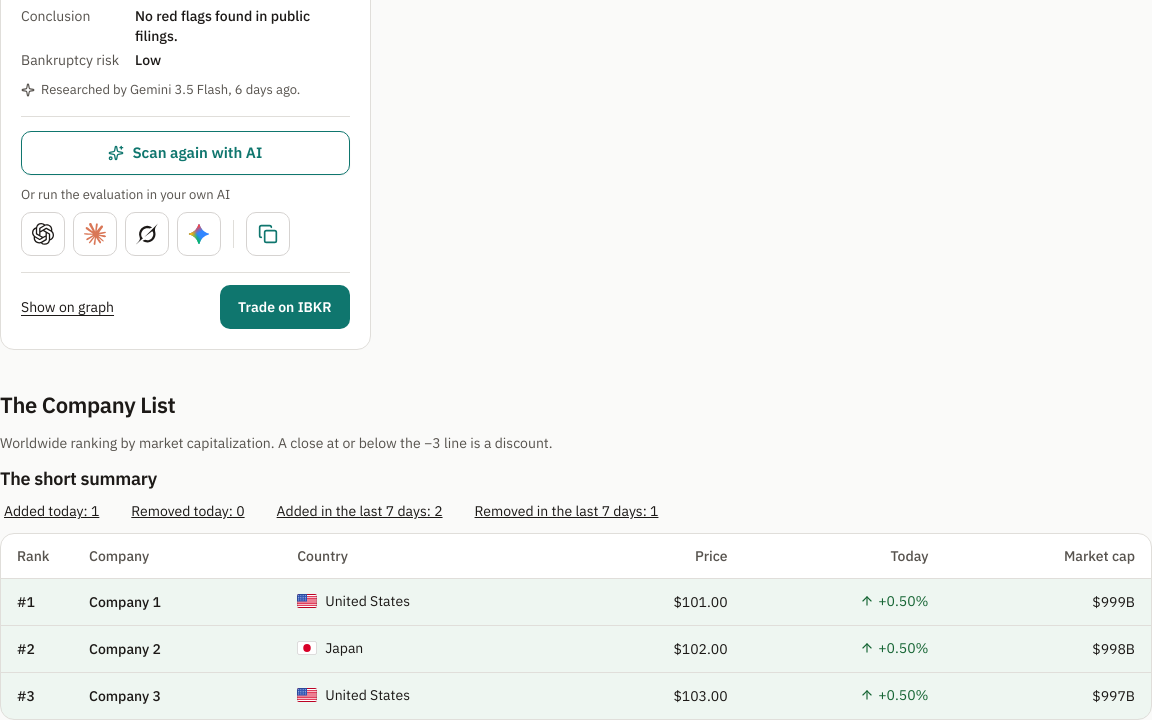
OverviewPage › the short summary shows the four counts and opens each company list in a popover
This screenshot has width=1152, height=720.
(page scrolled)
Check: the button "Added today: 1" is shown, box [0,501,103,521]
Check: the button "Removed today: 0" is shown, box [127,501,249,521]
Click the button "Removed in the last 7 days: 1". click: [566, 511]
box: [470,501,662,521]
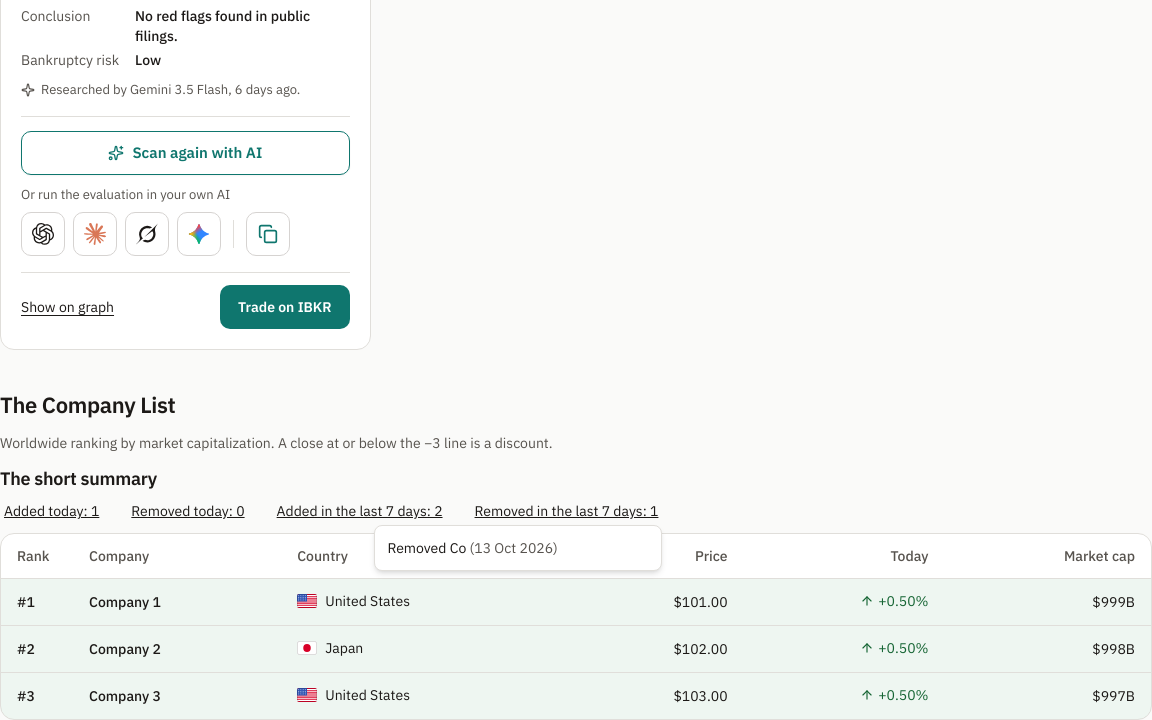
Check: the dialog named "Removed in the last 7 days" shows "Removed Co", box [387,539,466,557]
Check: the dialog named "Removed in the last 7 days" shows "13 Oct 2026", box [466,539,558,557]
